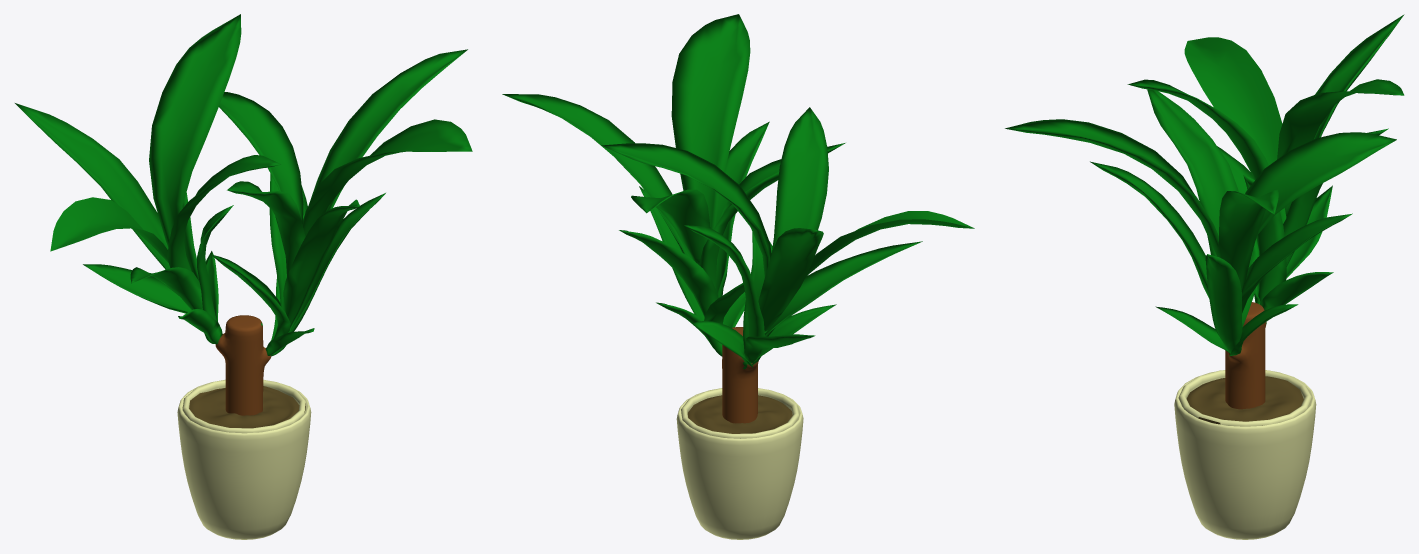
File: Plant1.fbx
3 views of the same model, side by side, from view 1: azimuth 30°, elevation 25°; view 2: azimuth 150°, elevation 25°; view 3: azimuth 270°, elevation 25° (orthographic). The views are drawn at different scales.
Visible parts, largest first — view 1: indoor plant_02.003; view 2: indoor plant_02.003; view 3: indoor plant_02.003.
Part boxes in pixels (x1,y1,x2,y2): indoor plant_02.003: [15, 14, 472, 539]; indoor plant_02.003: [502, 14, 974, 539]; indoor plant_02.003: [1005, 14, 1404, 539].
Size of the model in its own units: 682 by 622 by 486.
